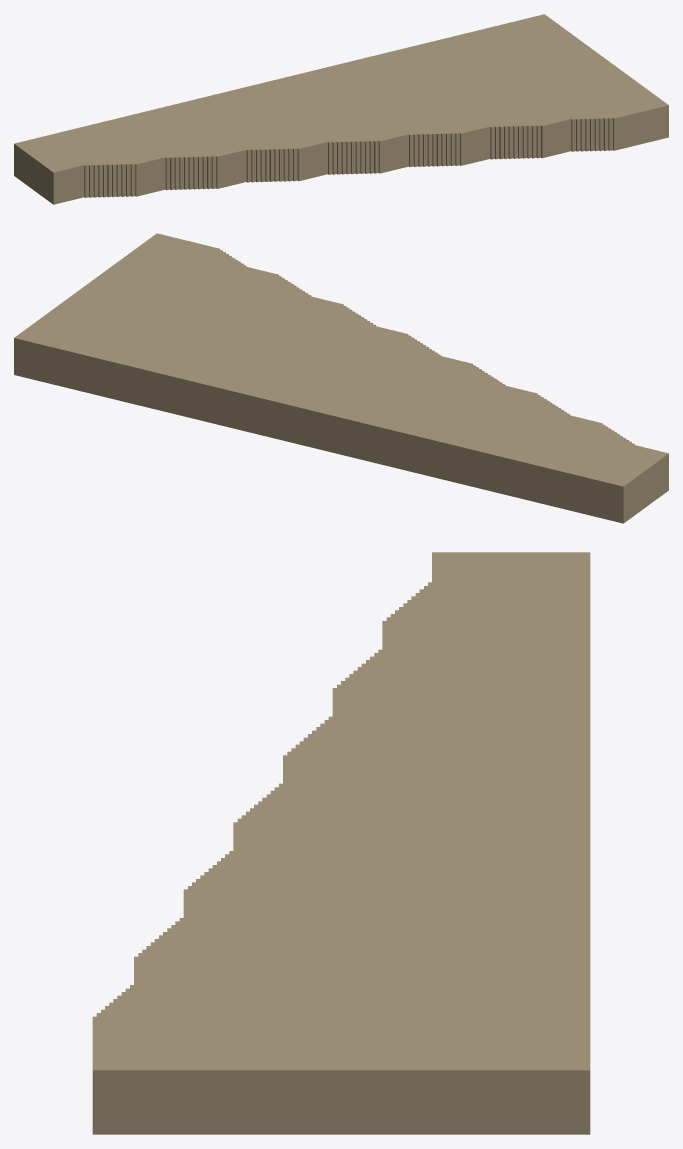
The model's file is KotelApproach_StairAndLandings.obj.
3 views of the same model, one above another, from view 1: azimuth 30°, elevation 25°; view 2: azimuth 150°, elevation 25°; view 3: azimuth 270°, elevation 25° (orthographic). The views are drawn at different scales.
Visible parts, largest first — view 1: KotelApproach_StairAndLandings; view 2: KotelApproach_StairAndLandings; view 3: KotelApproach_StairAndLandings.
Boxes of the visible parts, left/top/right/bottom form: KotelApproach_StairAndLandings: left=14, top=14, right=668, bottom=204; KotelApproach_StairAndLandings: left=14, top=233, right=668, bottom=523; KotelApproach_StairAndLandings: left=92, top=552, right=590, bottom=1134.
Size of the model in its own units: 51.7 by 3 by 21.
